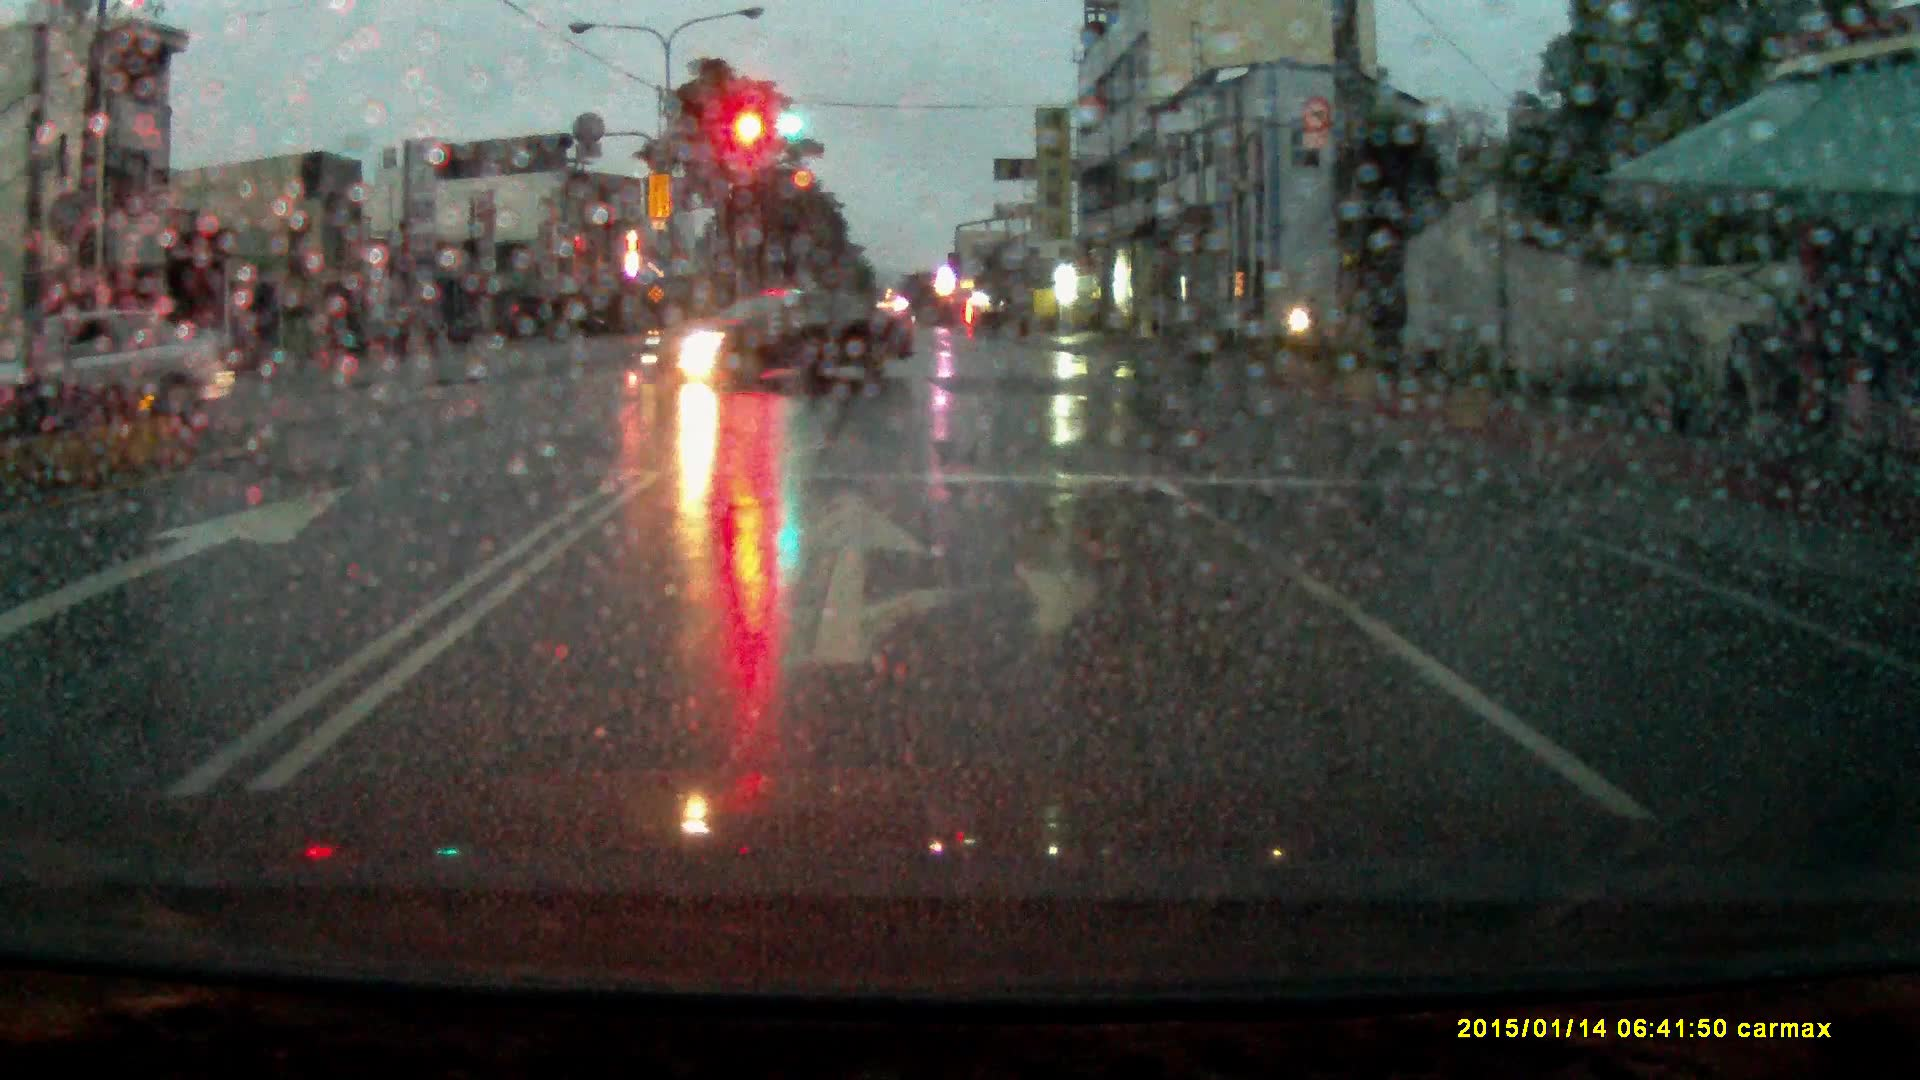rider: (1282, 283, 1326, 355)
vehicle: (636, 289, 907, 394), (1, 308, 238, 425)
